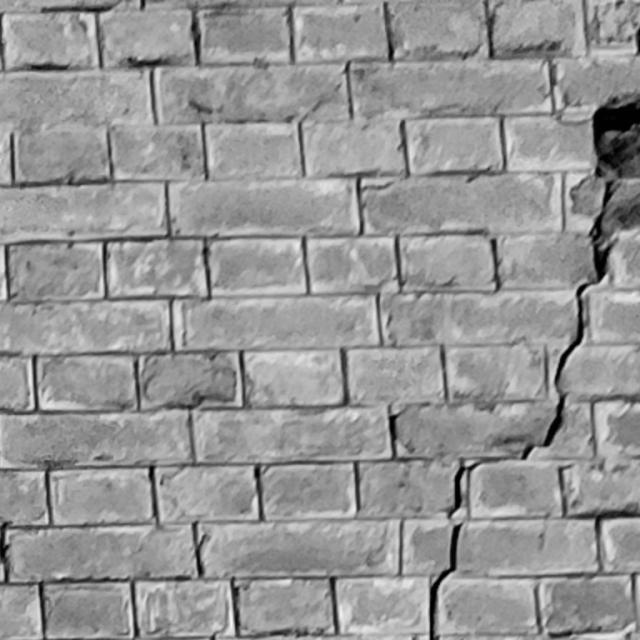crack: (427, 91, 640, 640)
